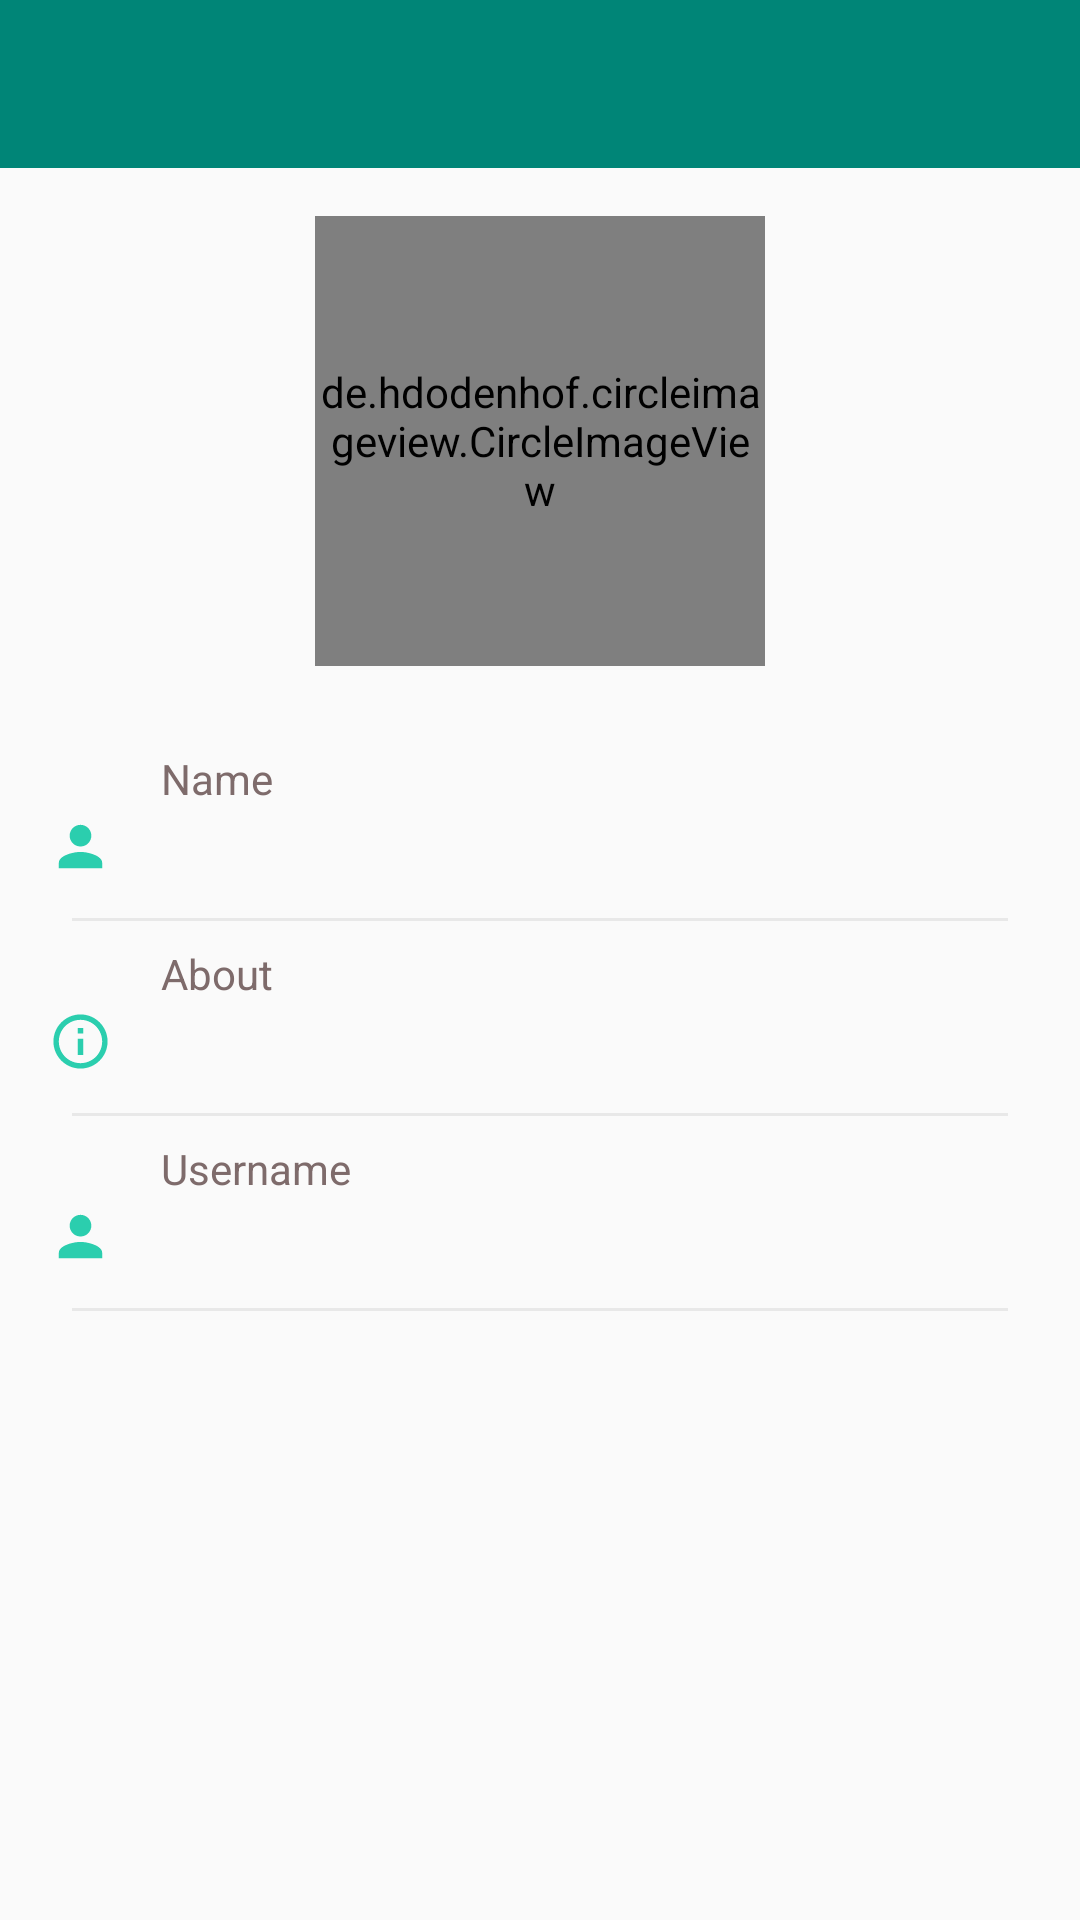

Icons on this 1080×1920 Android screen, each with the point to tap as (x=x, y=y):
info: (x=80, y=1041)
person skyblue: (x=80, y=846), (x=80, y=1236)
